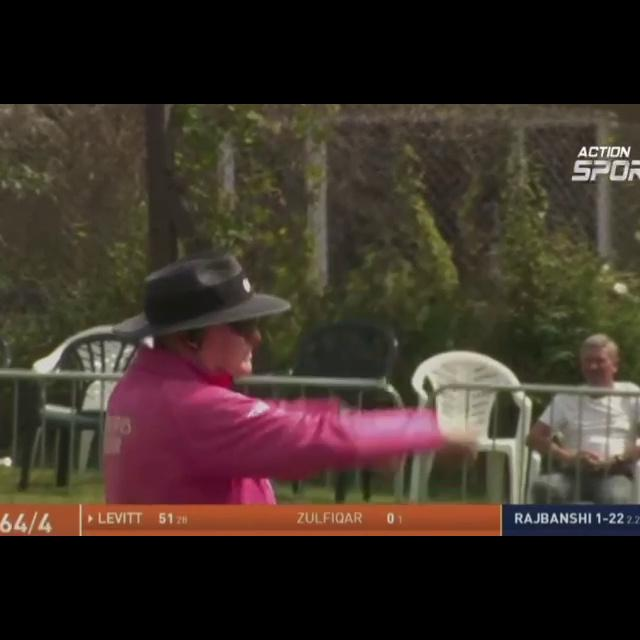umpire: (54, 185, 529, 496)
